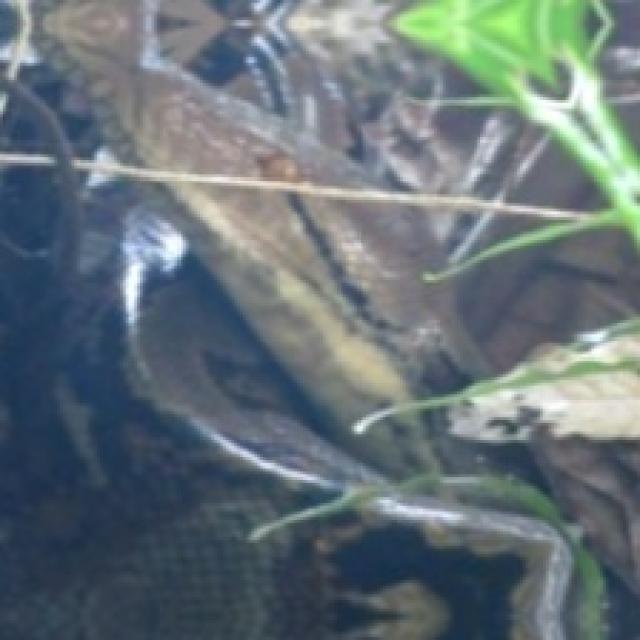reticulated python: (0, 166, 637, 637), (0, 0, 600, 209)
